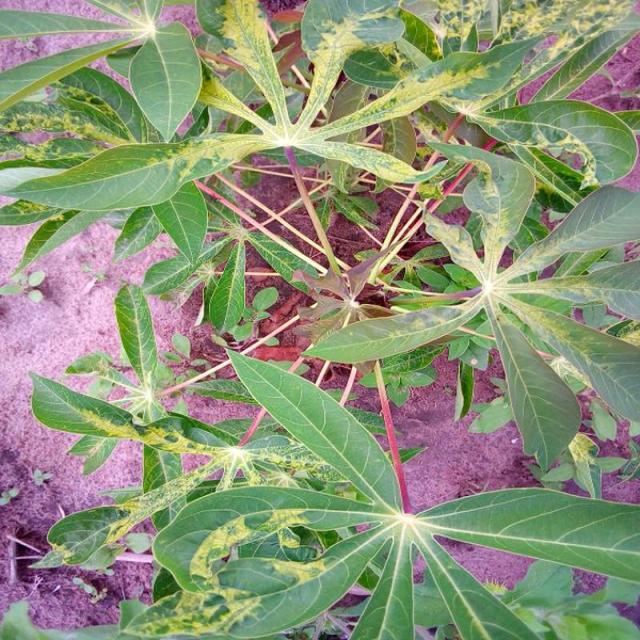cassava leaf: (2, 1, 640, 637), (225, 345, 405, 514)
